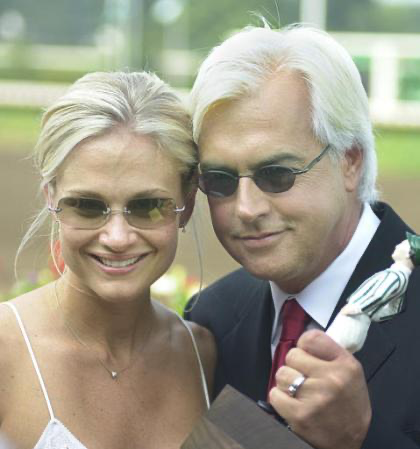Face: (192, 131, 333, 278), (52, 161, 181, 303)
